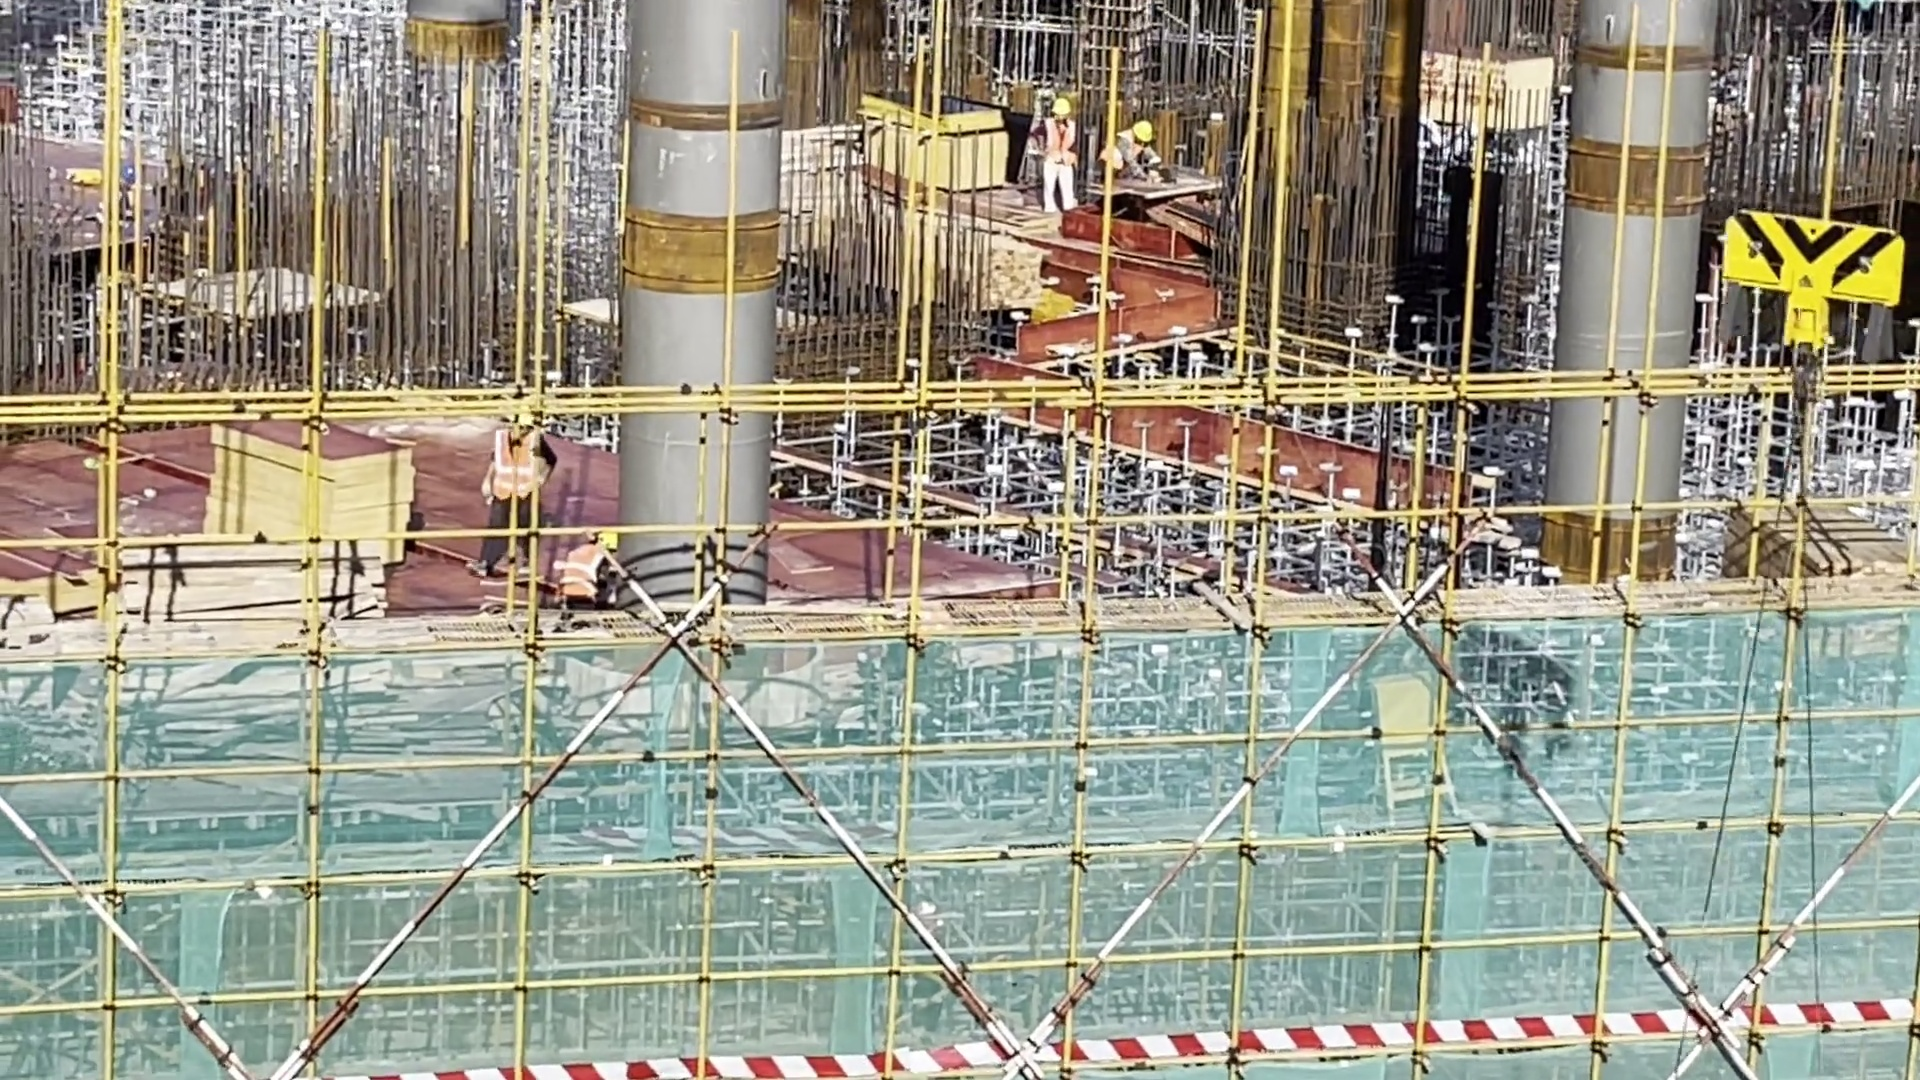board: (206, 402, 411, 580), (1722, 502, 1912, 612), (861, 87, 1011, 198)
ebox: (1379, 671, 1450, 809)
helmet: (598, 519, 623, 552), (1129, 120, 1159, 146), (1051, 98, 1075, 124)
hook: (1706, 198, 1902, 359)
person: (480, 395, 548, 593), (541, 527, 630, 647), (1031, 98, 1086, 215), (1104, 119, 1172, 194)
vest: (492, 425, 550, 505), (561, 541, 614, 613), (1041, 122, 1081, 164)
wood: (104, 531, 373, 655)
